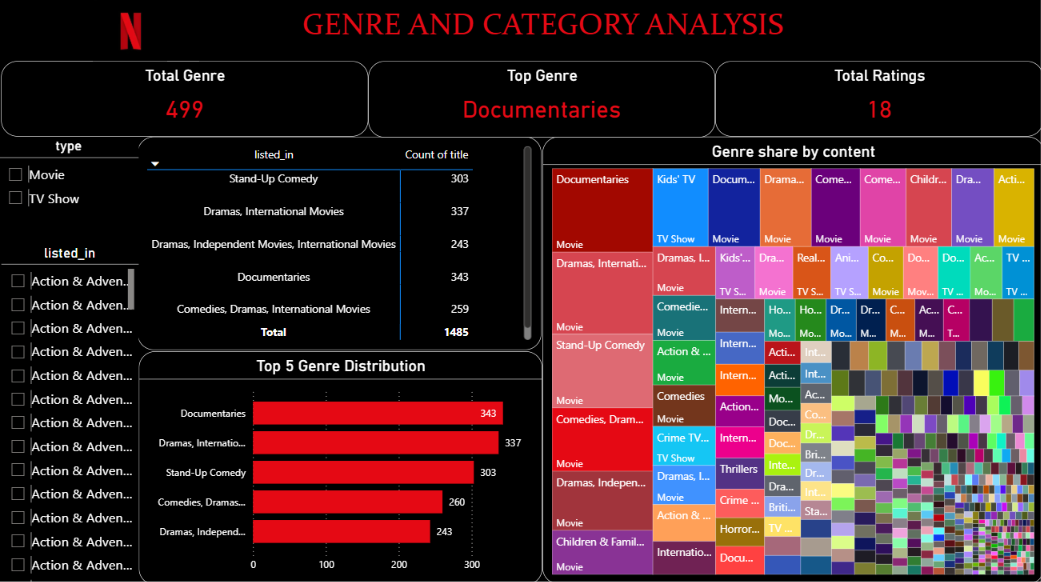

Layout of this report page (visuals, bound fields, positions):
{"tool":"powerbi","page":{"name":"GENERE AND CATEGORY ANALYSIS","canvas":[1280,720],"ordinal":1},"visuals":[{"type":"treemap","title":" Genre share by content","fields":{"Group":["netflix_titles.listed_in"],"Values":["CountNonNull(netflix_titles.show_id)"],"Details":["netflix_titles.type"]},"box":[665.7,171,614.3,548],"z":0},{"type":"barChart","title":"Top 5 Genre Distribution","fields":{"Category":["netflix_titles.listed_in"],"Y":["CountNonNull(netflix_titles.show_id)"],"Series":["netflix_titles.type"]},"box":[172,434,494,286],"z":1000},{"type":"pivotTable","title":"Top 5 Genre Distribution","fields":{"Rows":["netflix_titles.listed_in"],"Values":["Count(netflix_titles.title)"]},"box":[171,171,494.7,261.1],"z":2000},{"type":"card","title":"Total Genre","fields":{"Values":["Count(netflix_titles.listed_in)"]},"box":[3.3,77.7,449.8,92.6],"z":3000},{"type":"slicer","title":"type","fields":{"Values":["netflix_titles.type"]},"box":[0,172,172,170],"z":4000},{"type":"card","title":"Total Ratings","fields":{"Values":["Count(netflix_titles.rating)"]},"box":[878,77.7,401.8,92.6],"z":5000},{"type":"textbox","box":[246.4,0,1033.4,77.7],"z":6000},{"type":"image","box":[0,0,322.4,77.7],"z":7000},{"type":"slicer","title":"listed_in","fields":{"Values":["netflix_titles.listed_in"]},"box":[4,302,168,418],"z":8000},{"type":"card","title":"Top Genre","fields":{"Values":["netflix_titles.Top Genre"]},"box":[453.3,78.3,425,93.3],"z":9000}]}

Visuals, with their boxes in screenshot pixels (x1, y1, x2, y2), scaled from the page's 1280x720 canvas onto the 1041x582 screenshot:
" Genre share by content" treemap: rect(541, 138, 1040, 581)
"Top 5 Genre Distribution" barChart: rect(140, 351, 542, 581)
"Top 5 Genre Distribution" pivotTable: rect(139, 138, 541, 349)
"Total Genre" card: rect(3, 63, 368, 138)
"type" slicer: rect(0, 139, 140, 276)
"Total Ratings" card: rect(714, 63, 1040, 138)
textbox: rect(200, 0, 1040, 63)
image: rect(0, 0, 262, 63)
"listed_in" slicer: rect(3, 244, 140, 581)
"Top Genre" card: rect(369, 63, 714, 139)
